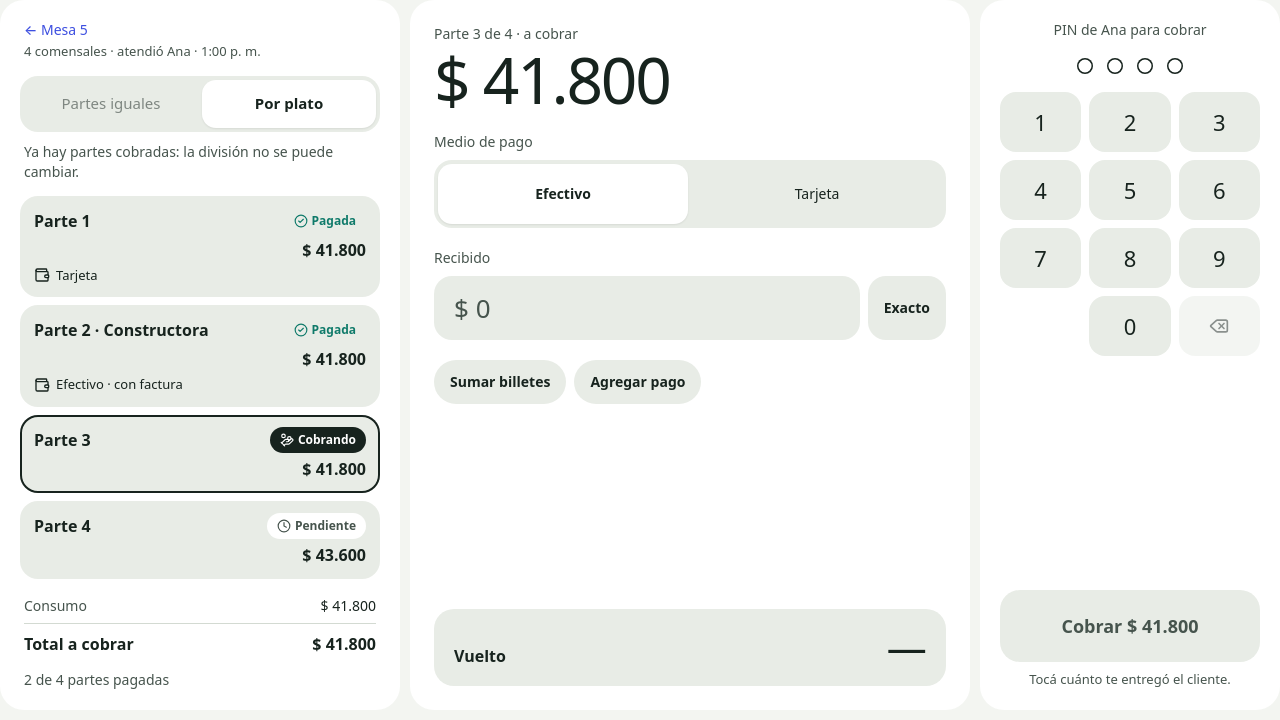
Test: CheckoutPage — cuenta dividida por ítems: partes como filas numeradas › tocar una parte pendiente la pasa adelante
This screenshot has width=1280, height=720.
Click the button "Parte 4 Pendiente $ 43.600" at (58, 526), box [20,500,380,578]
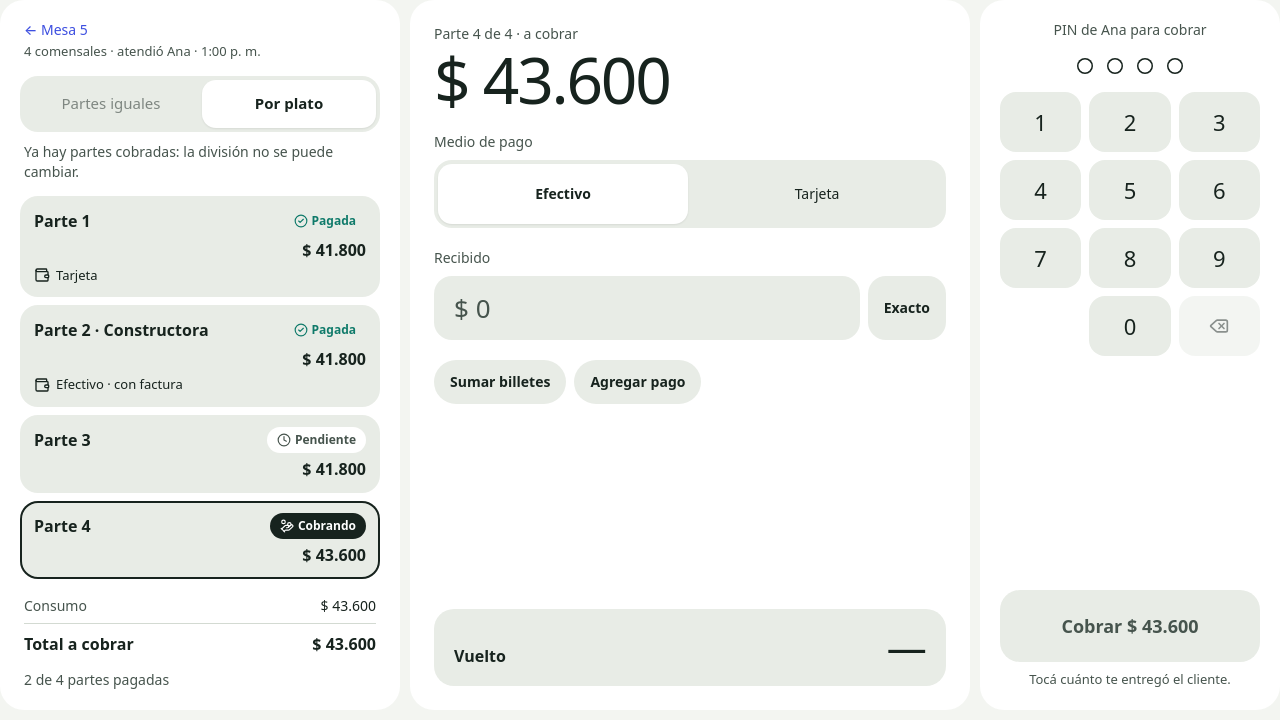
Result: the text "Parte 4 de 4 · a cobrar" is shown at [434,24,578,43]
Result: the button "Cobrar $ 43.600" is shown at [1000,590,1260,662]
